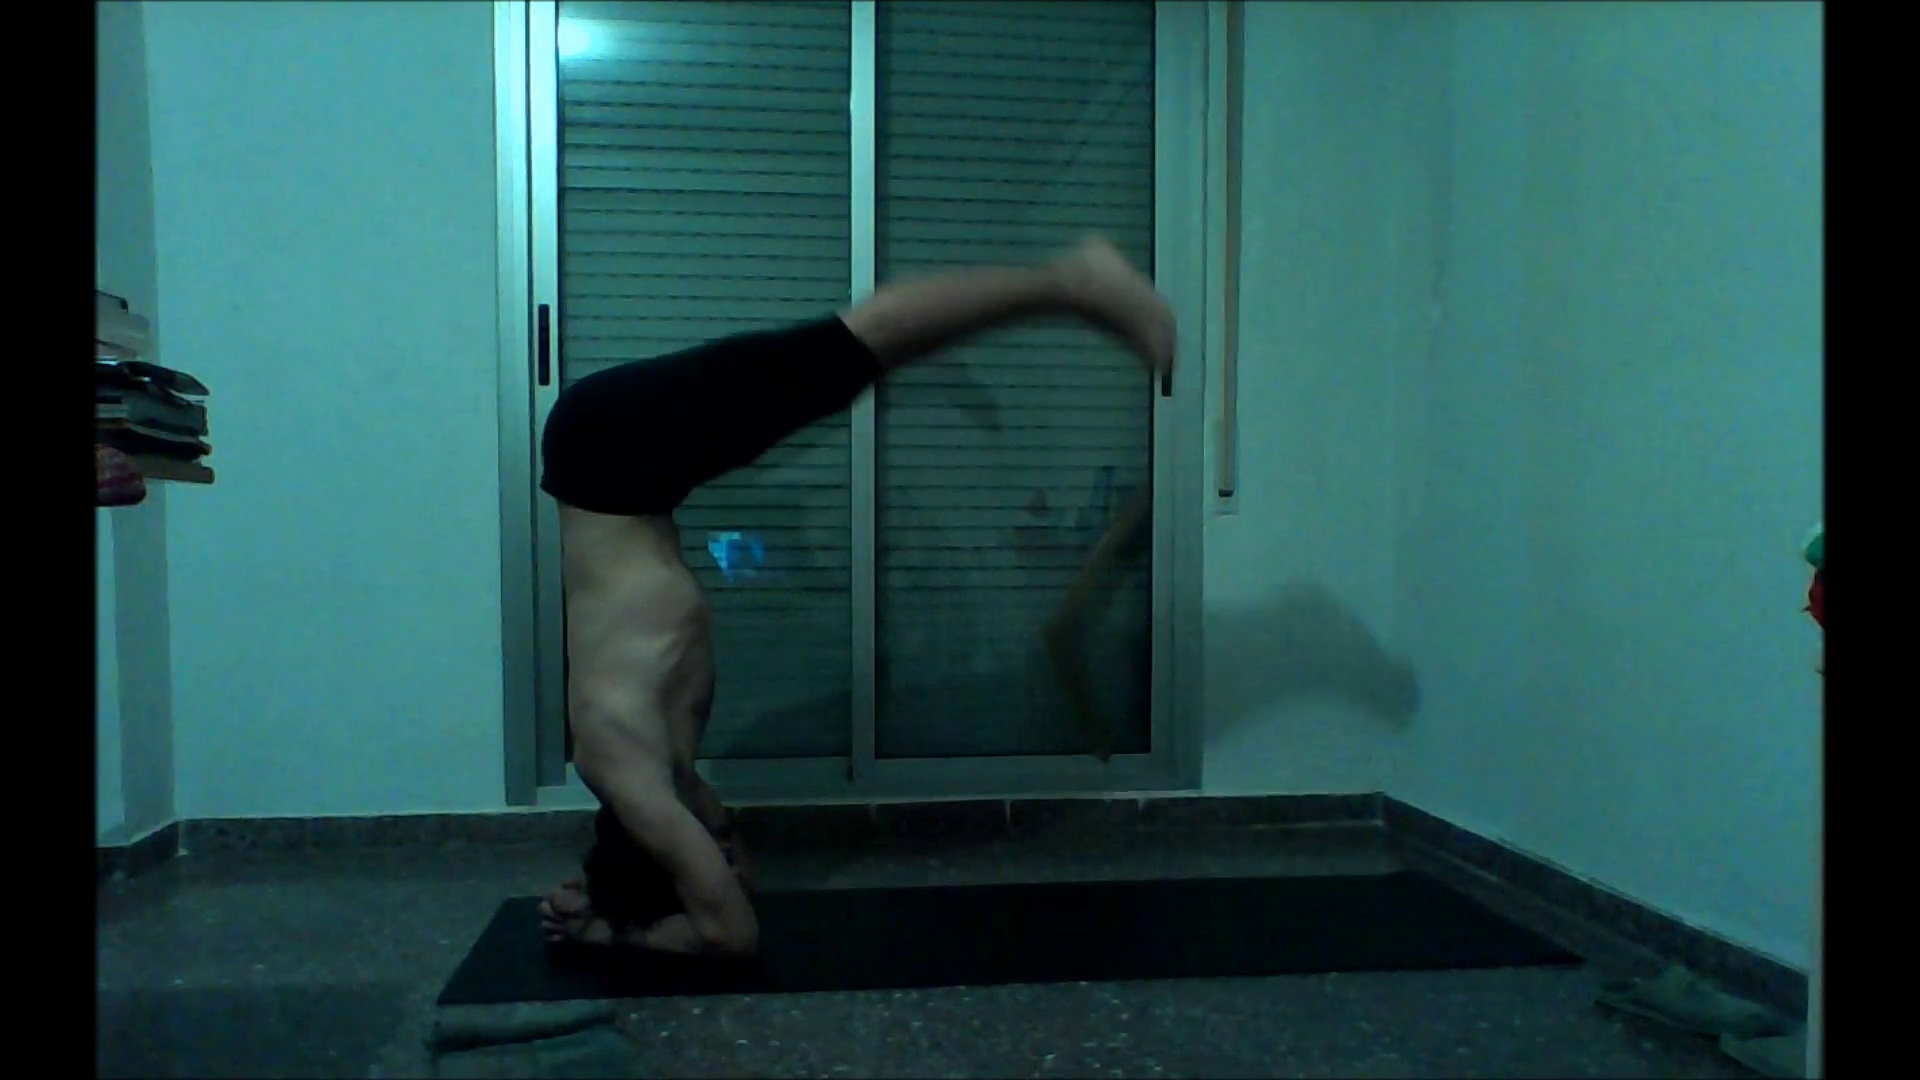person: (537, 234, 1178, 962)
